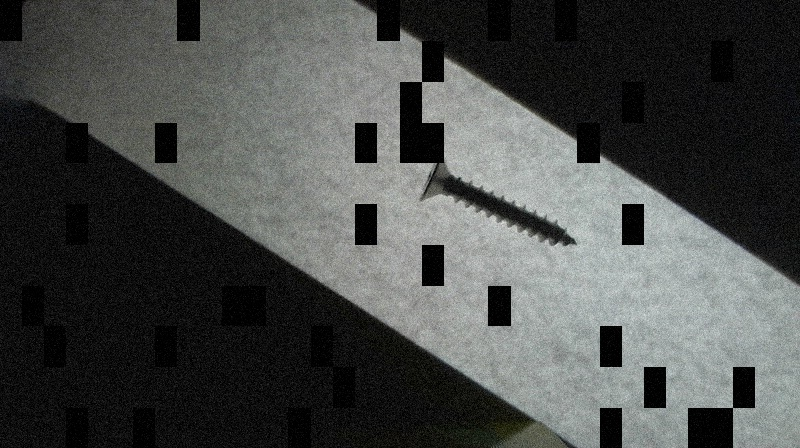S001: (416, 150, 580, 252)
